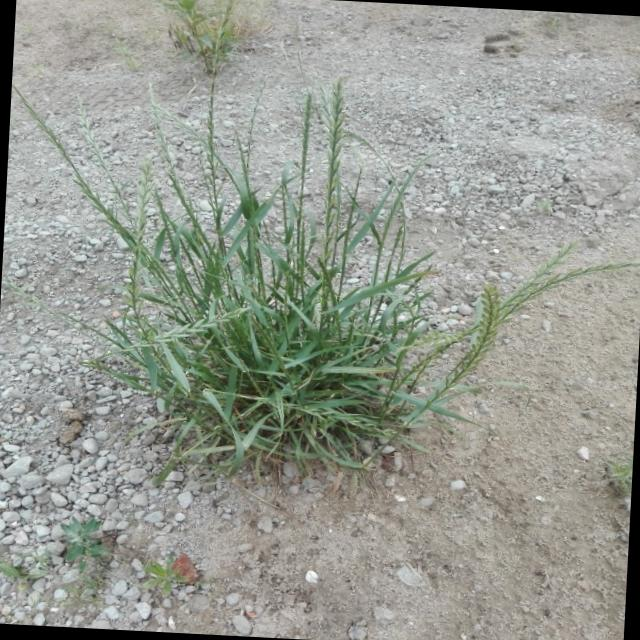Lolium: (101, 165, 484, 475), (497, 257, 640, 335), (322, 90, 354, 176)
